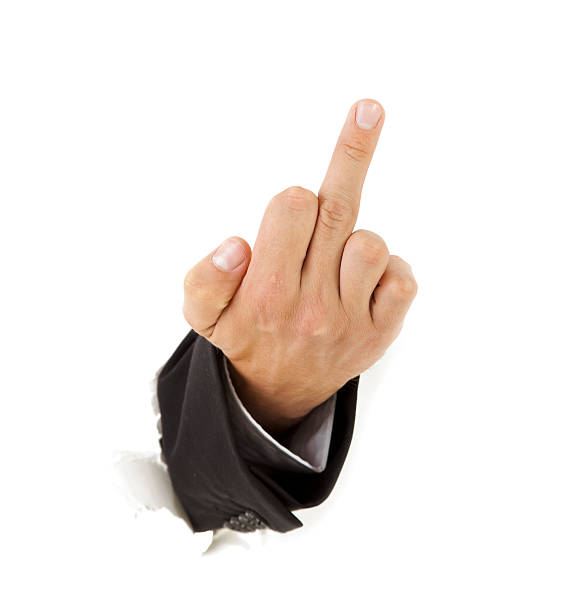insulting_gesture: (182, 94, 420, 423)
